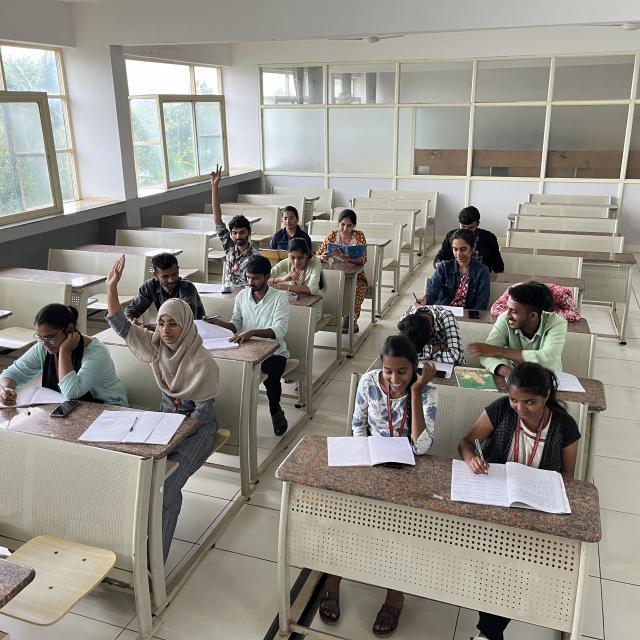Hand Rising: (94, 248, 218, 407), (183, 157, 264, 274)
Reading: (318, 348, 440, 468), (192, 257, 278, 357), (245, 194, 319, 259), (318, 204, 380, 276)
Sleeping: (380, 301, 474, 377), (492, 268, 592, 325)
Using Phone: (124, 245, 209, 326)
Writing: (0, 287, 117, 402), (467, 374, 567, 496), (396, 244, 496, 321), (424, 204, 521, 278)
